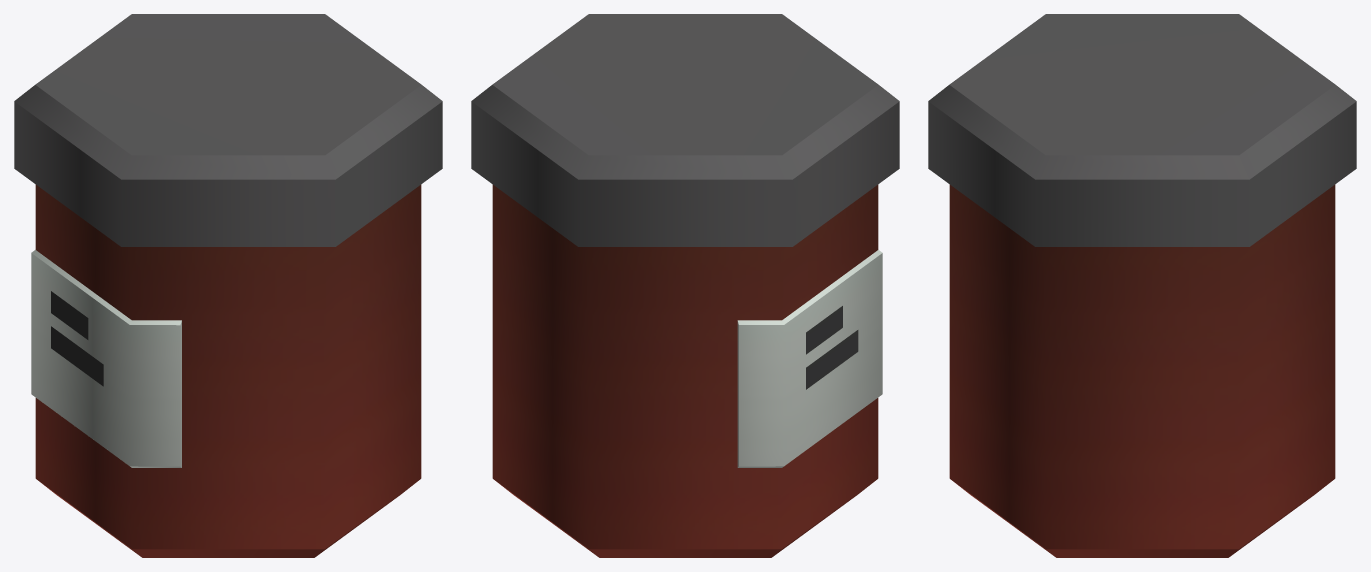
Rendered from Jar_1_L.fbx.
3 renders of one model, left to right at view 1: azimuth 30°, elevation 25°; view 2: azimuth 150°, elevation 25°; view 3: azimuth 270°, elevation 25°, orthographic.
Parts seen in each view (by area): view 1: Jar_1_L; view 2: Jar_1_L; view 3: Jar_1_L.
Part boxes in pixels (left/top/right/bottom): Jar_1_L: left=14, top=14, right=442, bottom=557; Jar_1_L: left=471, top=14, right=899, bottom=557; Jar_1_L: left=928, top=14, right=1356, bottom=557.
Size of the model in its own units: 17.99 by 21.94 by 20.77.
